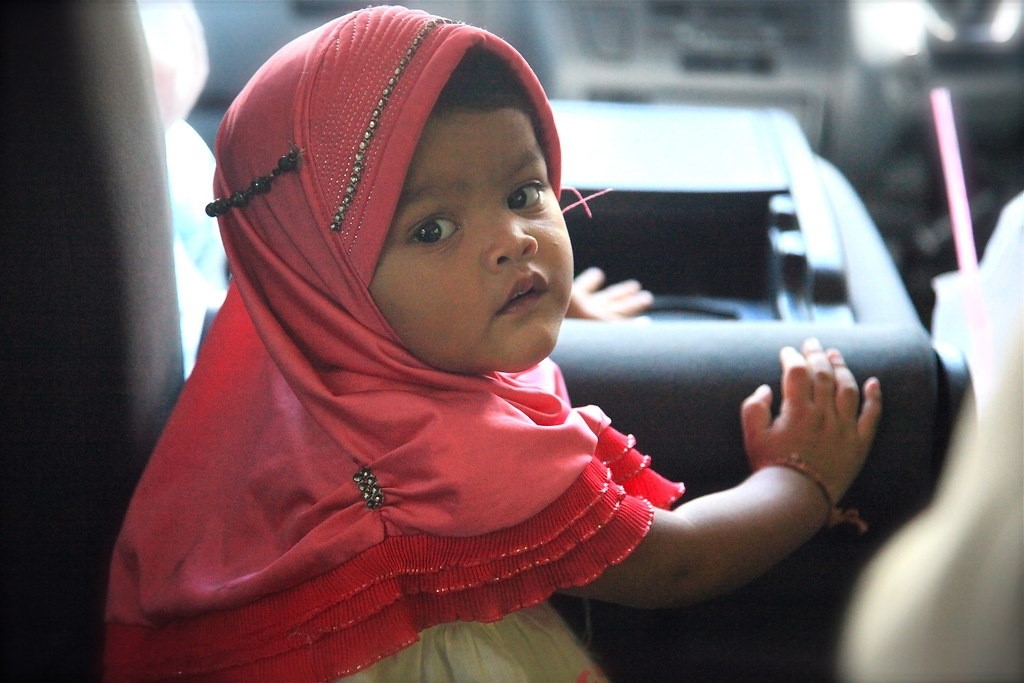face_no_mask: (332, 41, 583, 380)
